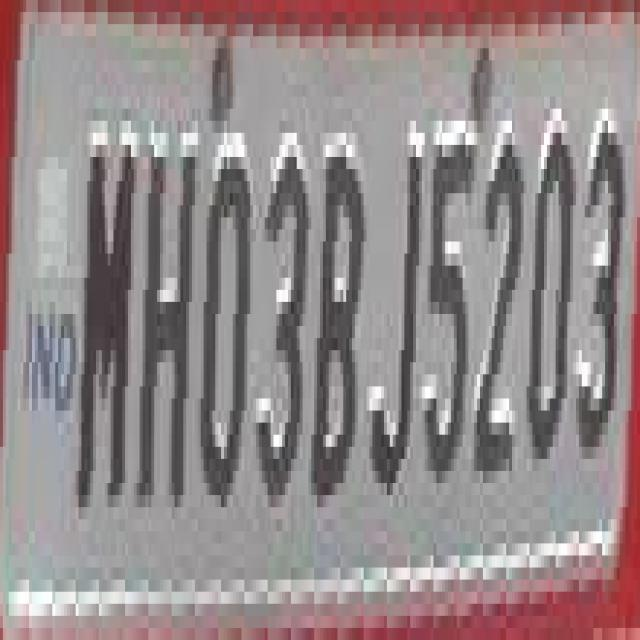license_plate: (0, 0, 620, 616)
